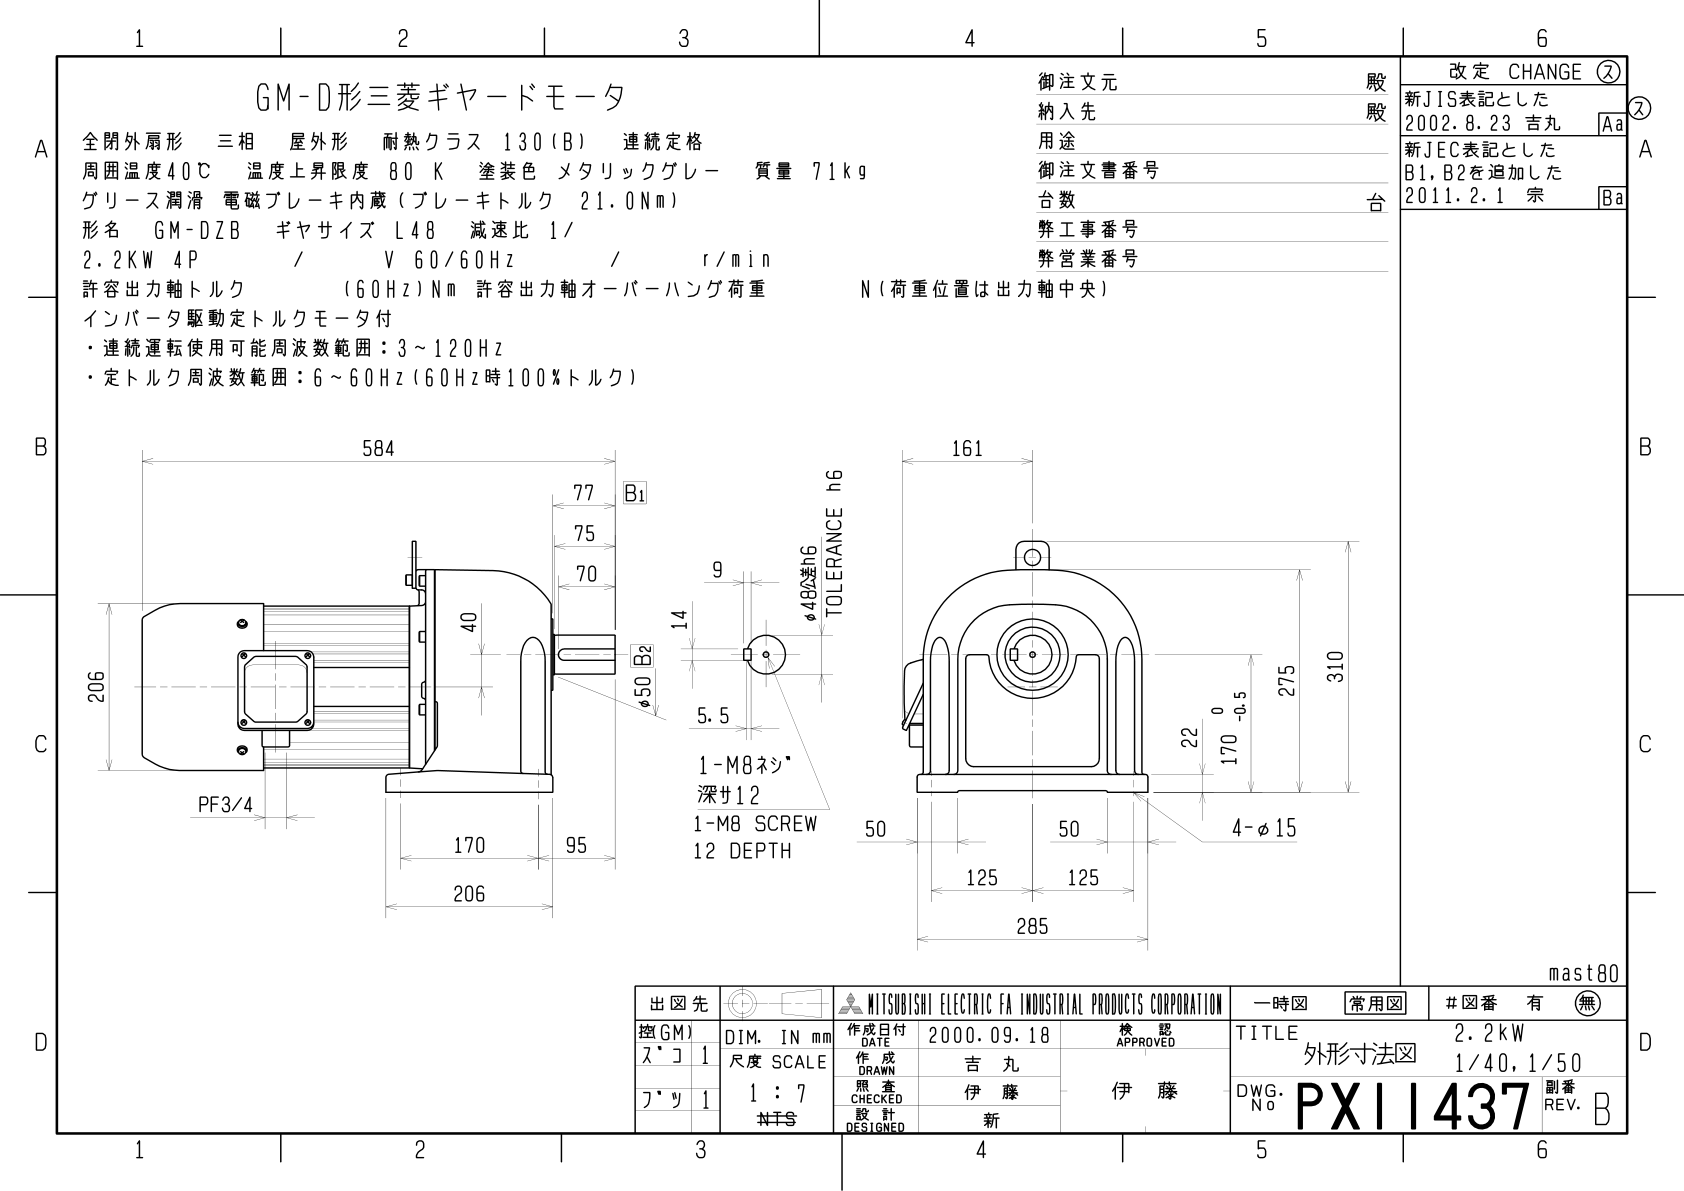GM_D_インバータ屋外_三相_脚: (64, 418, 1363, 962)
